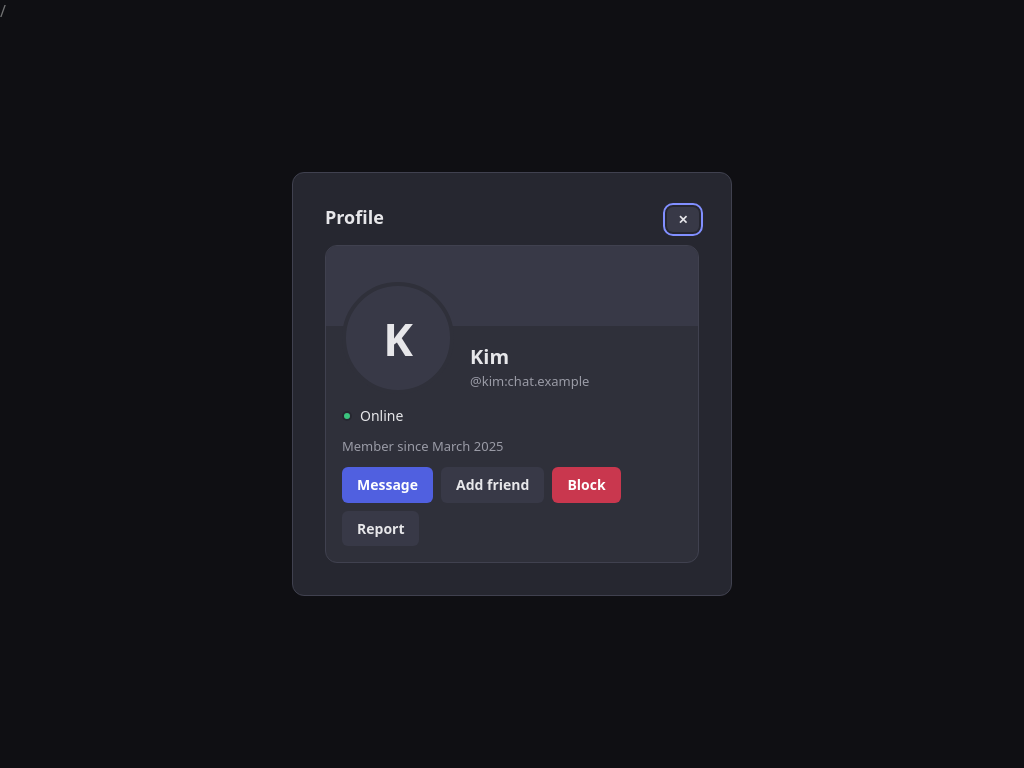
Test case: the profile dialog › someone else › opens a direct message with Message, and goes to it
Click the button "Message" at (388, 485), box [342,467,433,502]
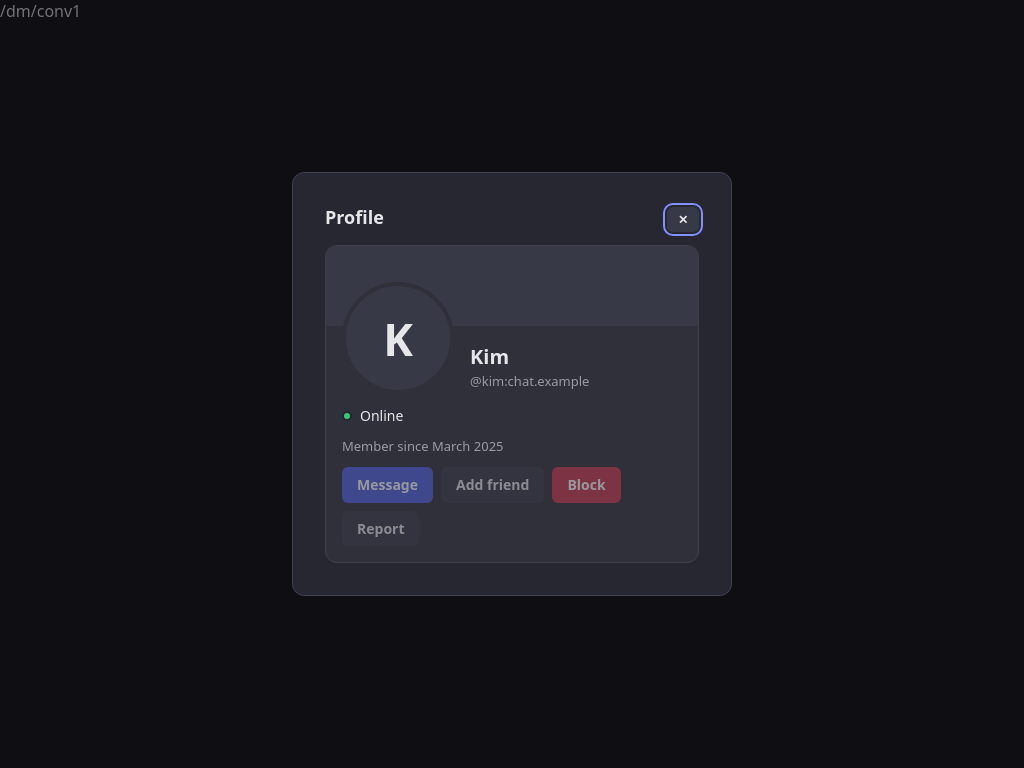
expect the text with test id "where" reads "/dm/conv1": met, box [0,0,81,22]
